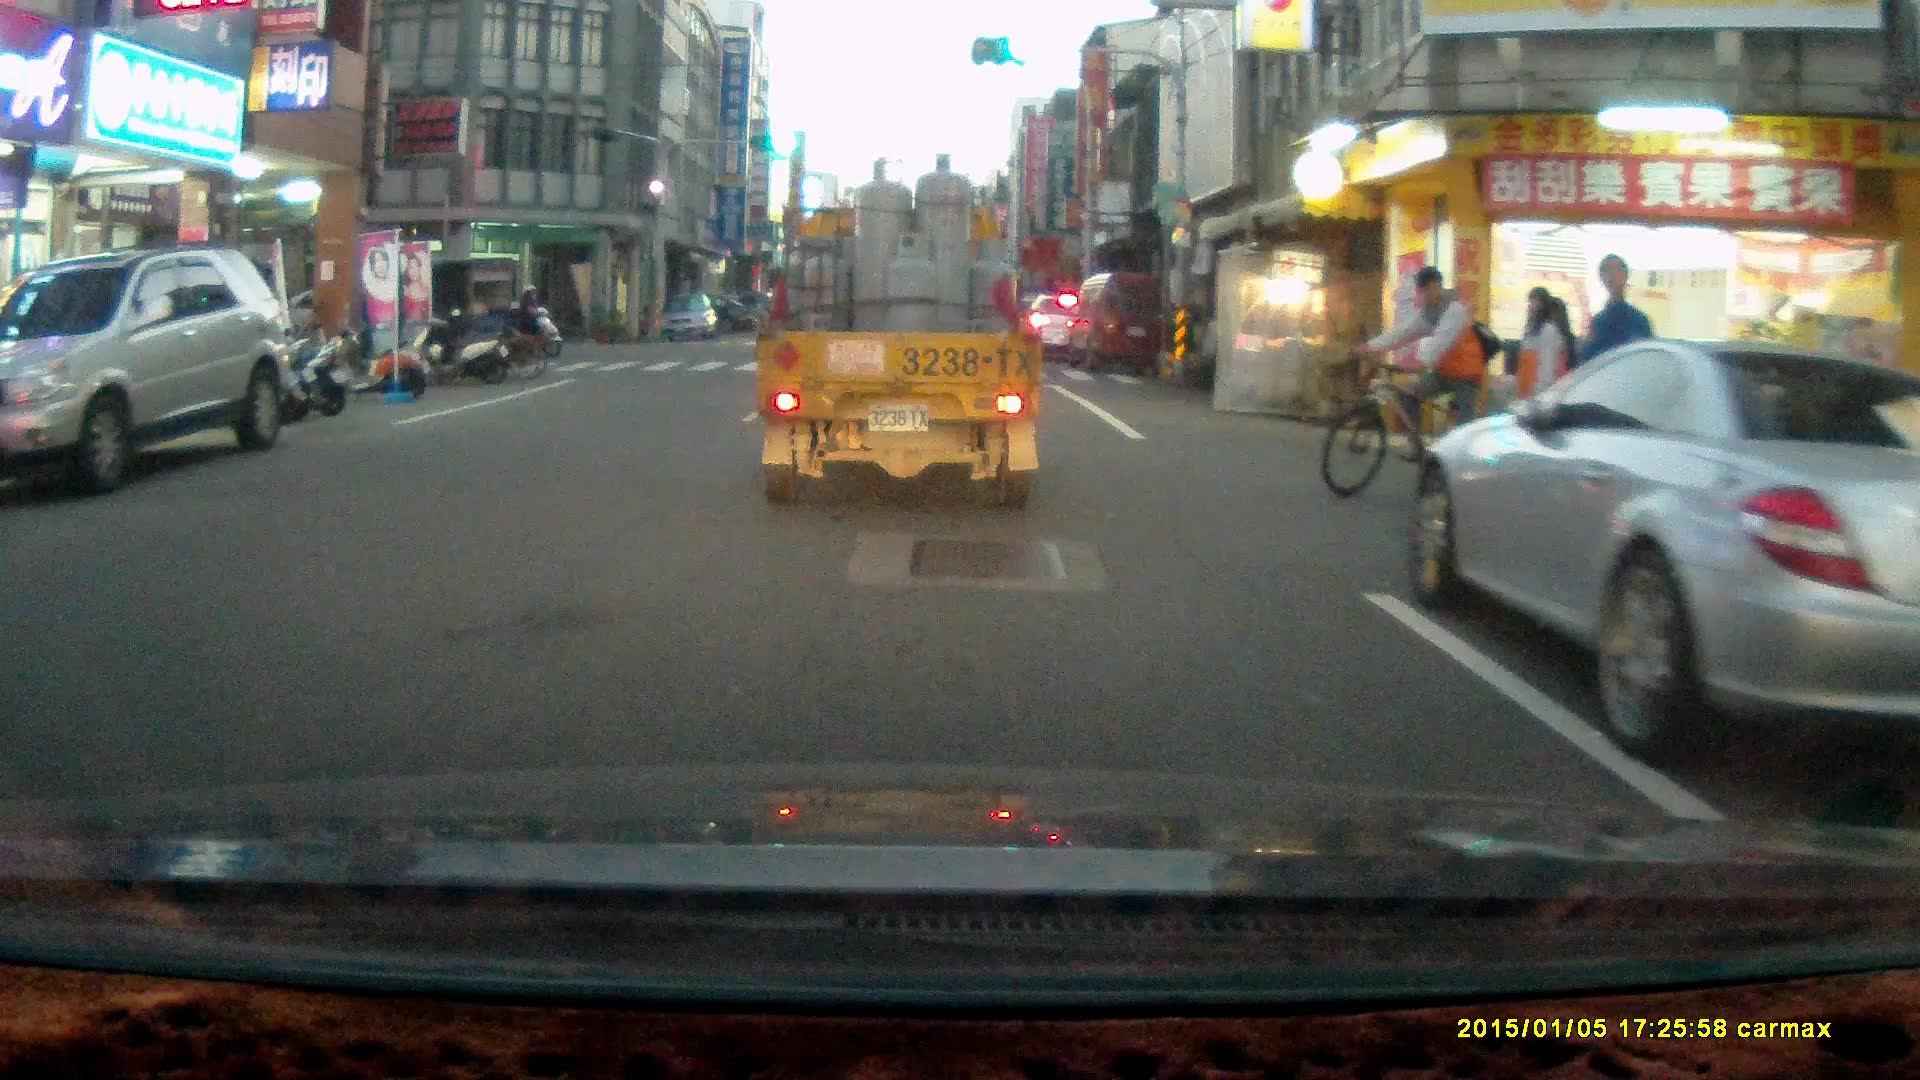pedestrian: (1574, 251, 1657, 531), (1516, 283, 1569, 484)
rider: (1322, 264, 1524, 502), (492, 282, 557, 364)
vehicle: (1409, 339, 1920, 762), (753, 161, 1039, 516), (1, 250, 294, 494), (333, 258, 515, 365), (1072, 269, 1174, 375), (1023, 296, 1091, 360), (655, 291, 719, 346)
